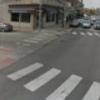cars: (0, 24, 13, 33)
crosswalks: (5, 61, 100, 100), (68, 31, 100, 36)
